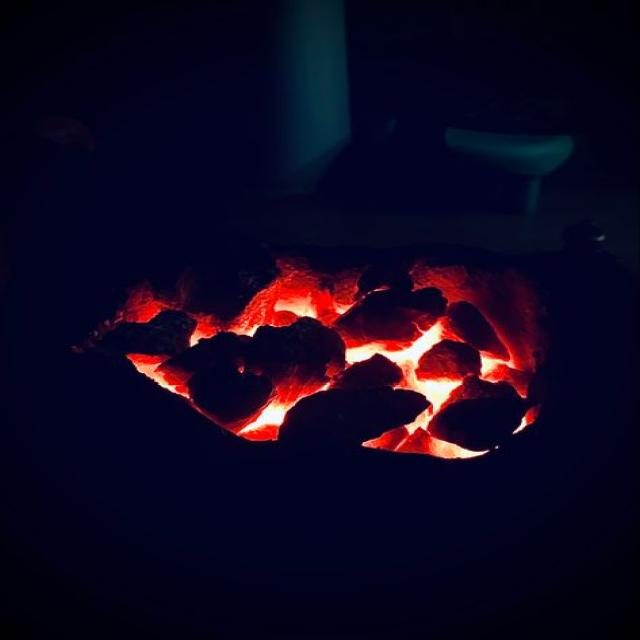Fire: (92, 230, 558, 499)
